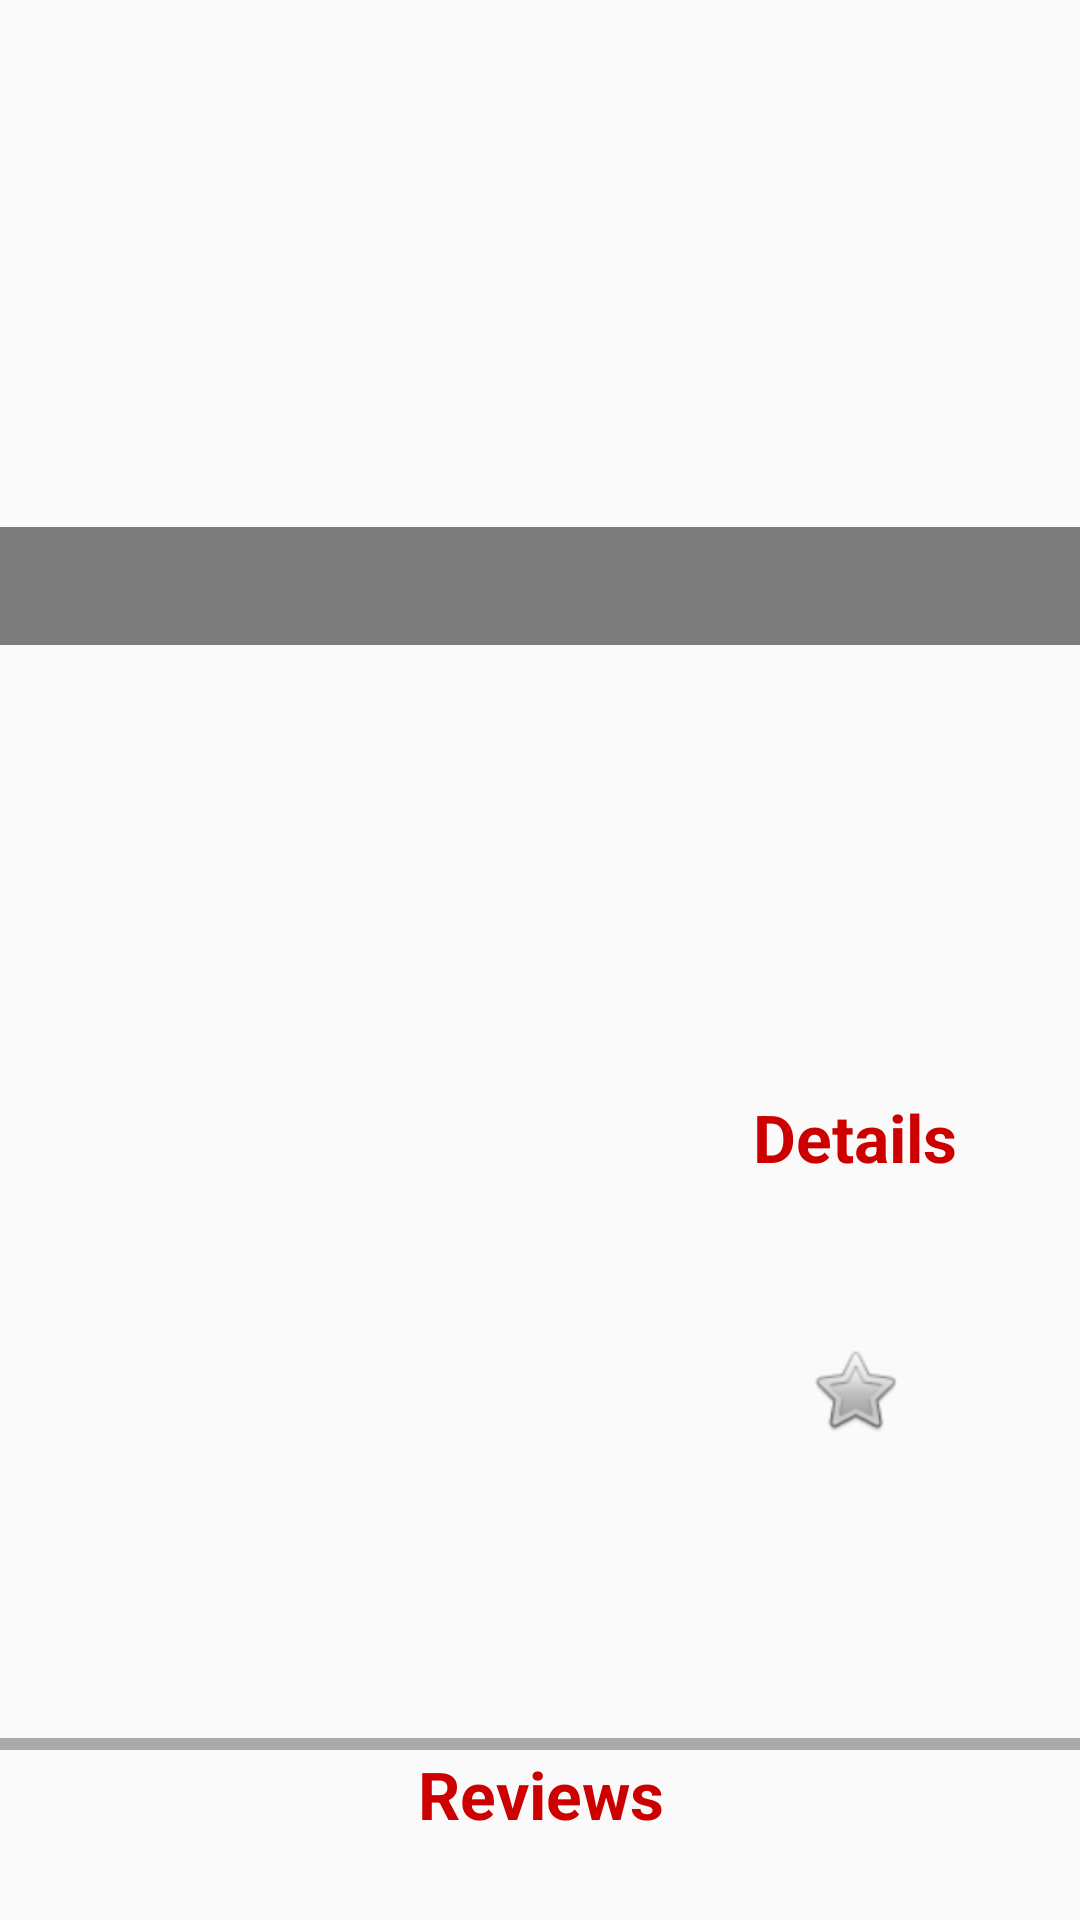

Named icons in this screenshot (1080 x 1920) and their centers, (x,y):
star: (856,1391)
